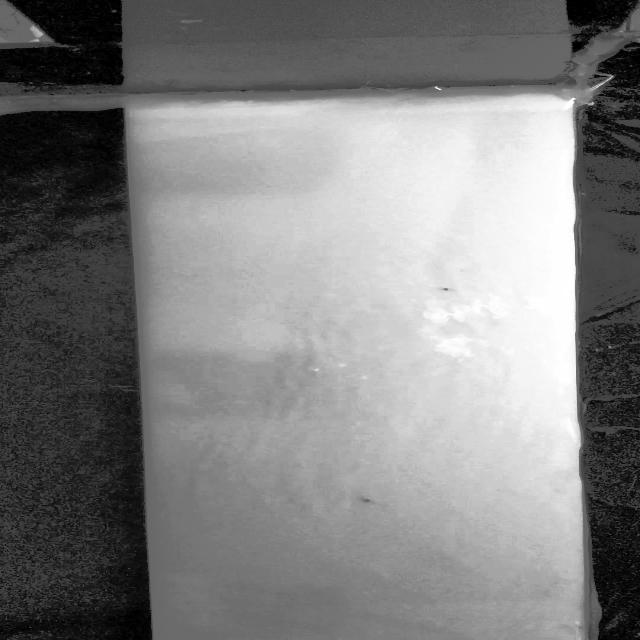shrimp: (423, 282, 474, 302), (342, 488, 381, 514)
